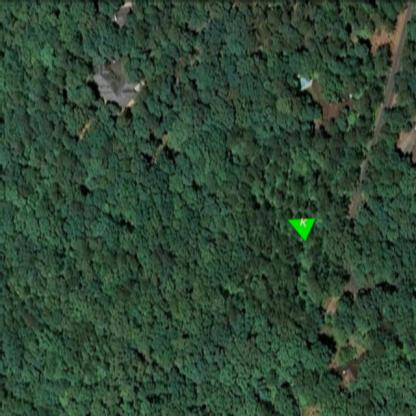K: (300, 216, 308, 228)
triangle: (286, 217, 319, 243)
